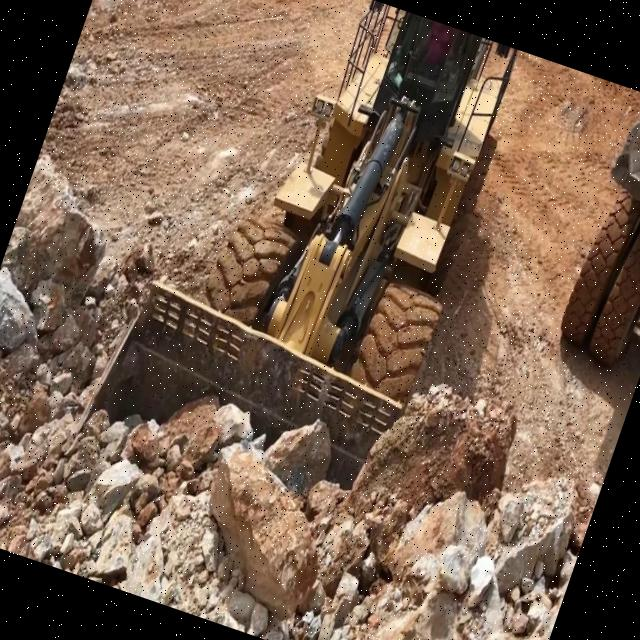Dump Truck: (546, 90, 640, 383)
Loader: (64, 0, 531, 559)
